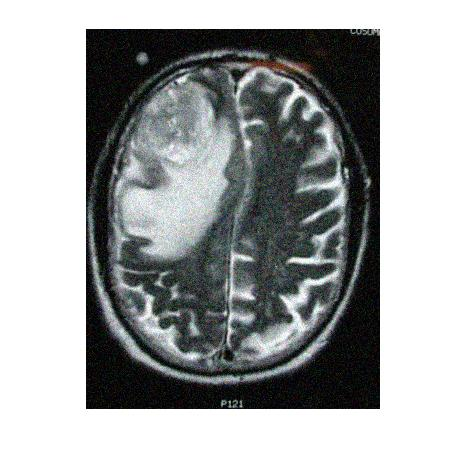Brain_Cancer: (133, 79, 226, 166)
